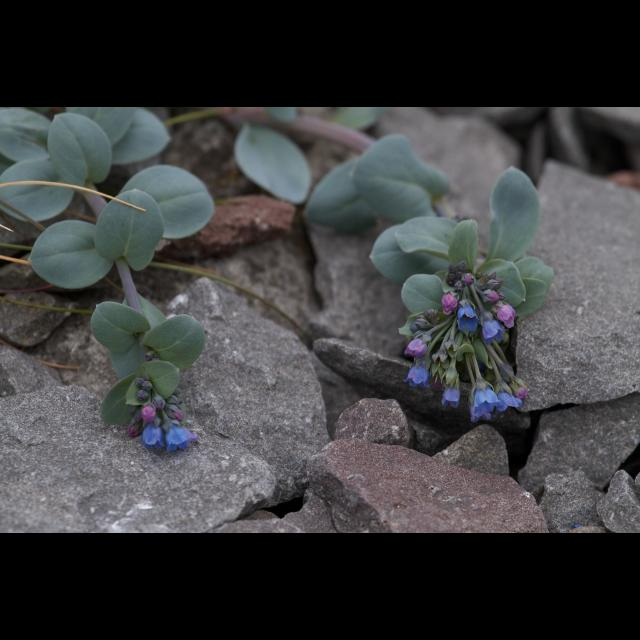Flower: (402, 262, 532, 422), (129, 376, 201, 454)
